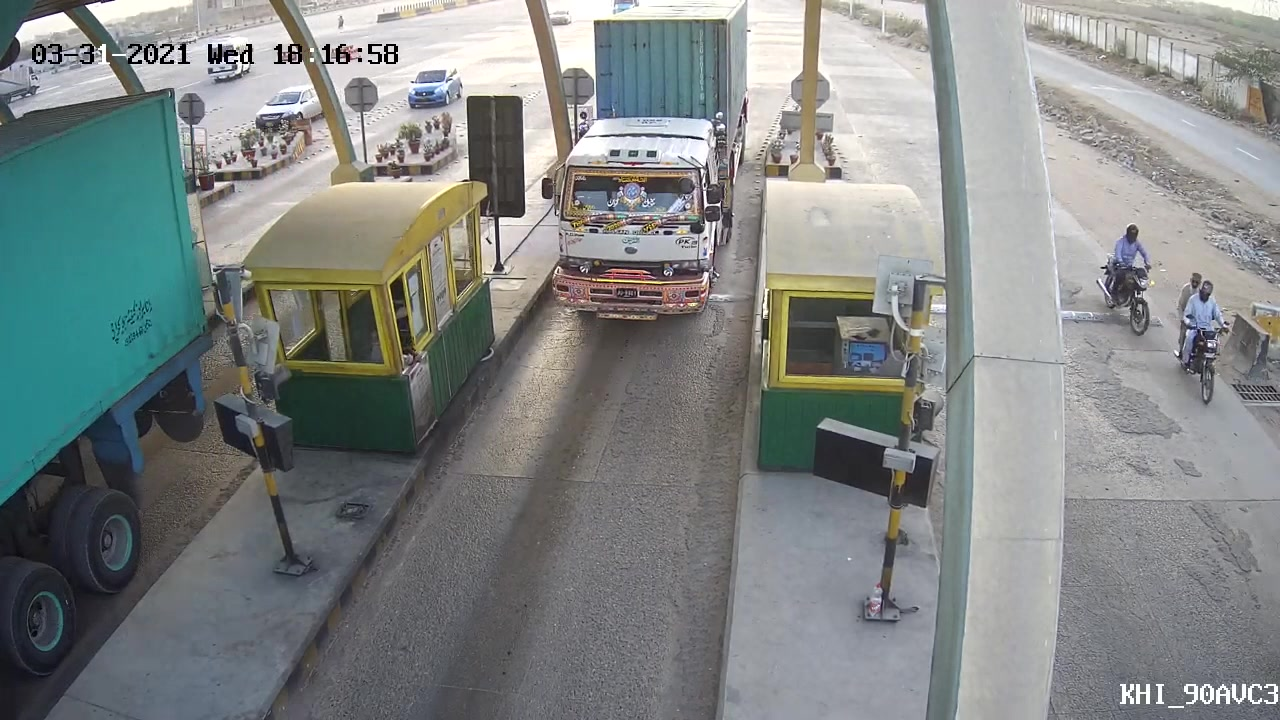F6: (536, 1, 758, 328)
